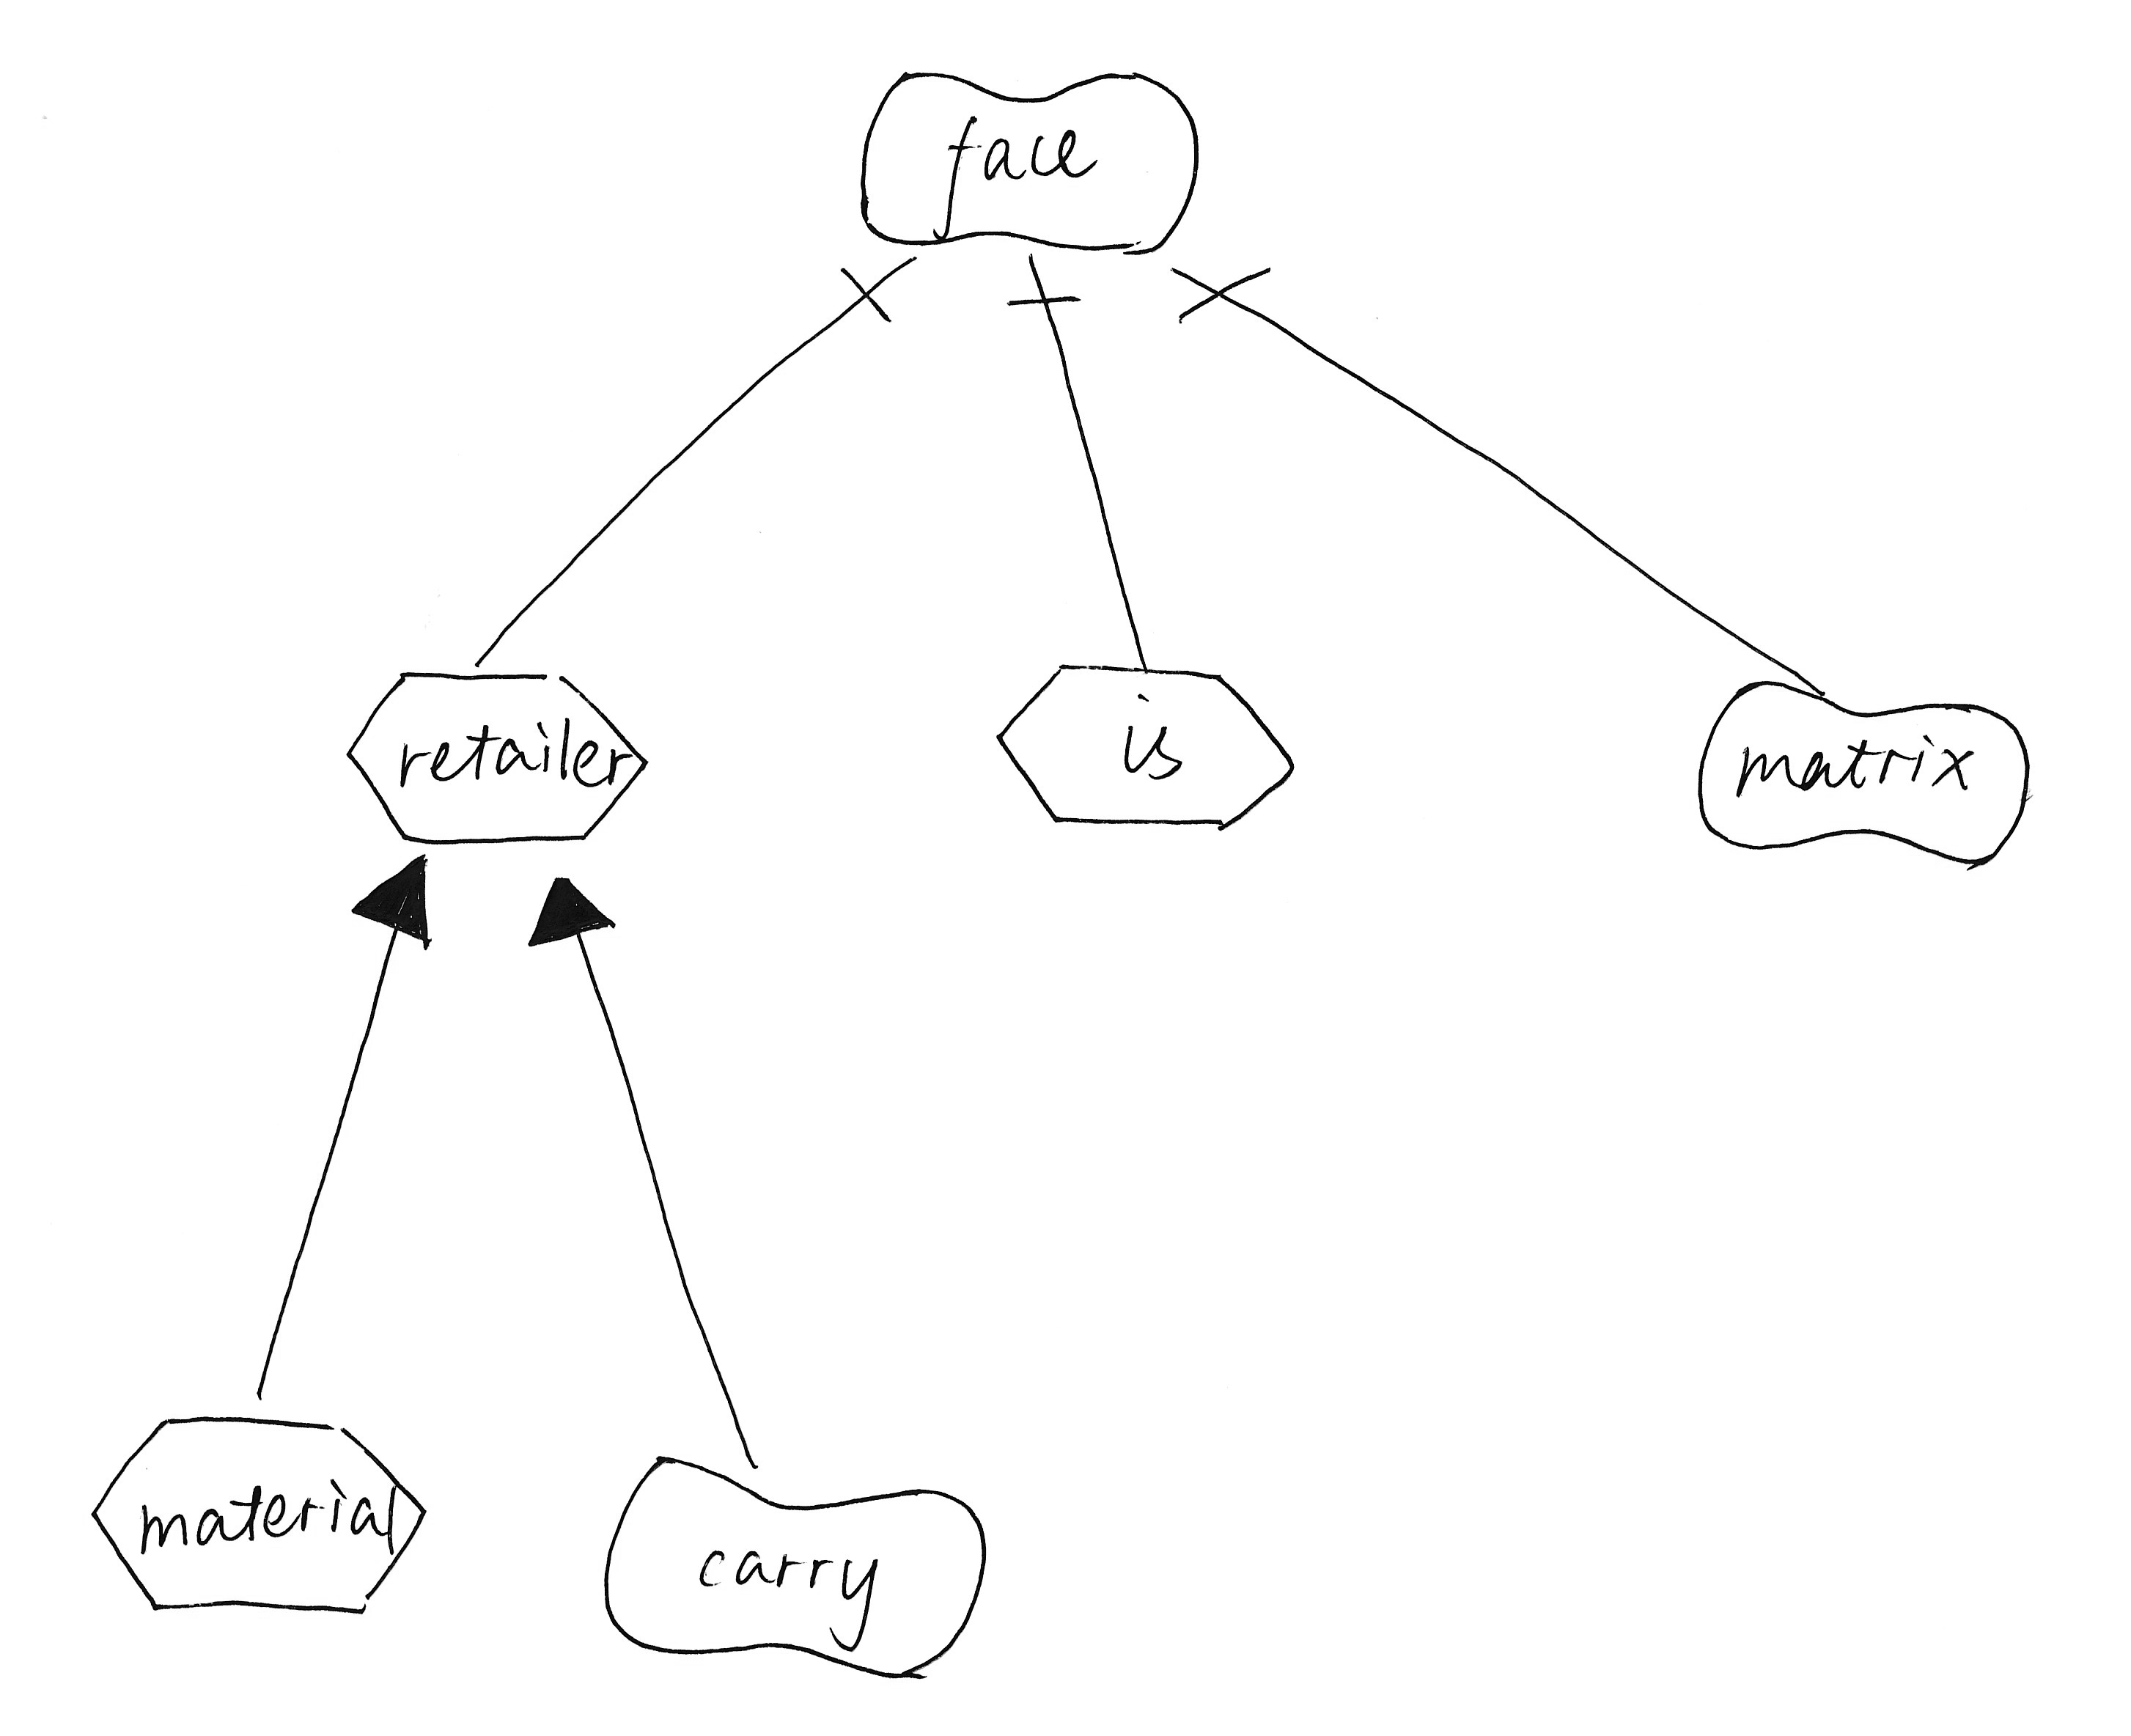and: (1150, 248, 1299, 340), (828, 251, 927, 356), (993, 244, 1099, 334)
or: (336, 839, 458, 970), (515, 862, 627, 966)
quality: (586, 1433, 1002, 1694), (841, 41, 1216, 271), (1680, 671, 2043, 881)
task: (73, 1403, 441, 1635), (326, 655, 671, 864), (972, 644, 1315, 842)
